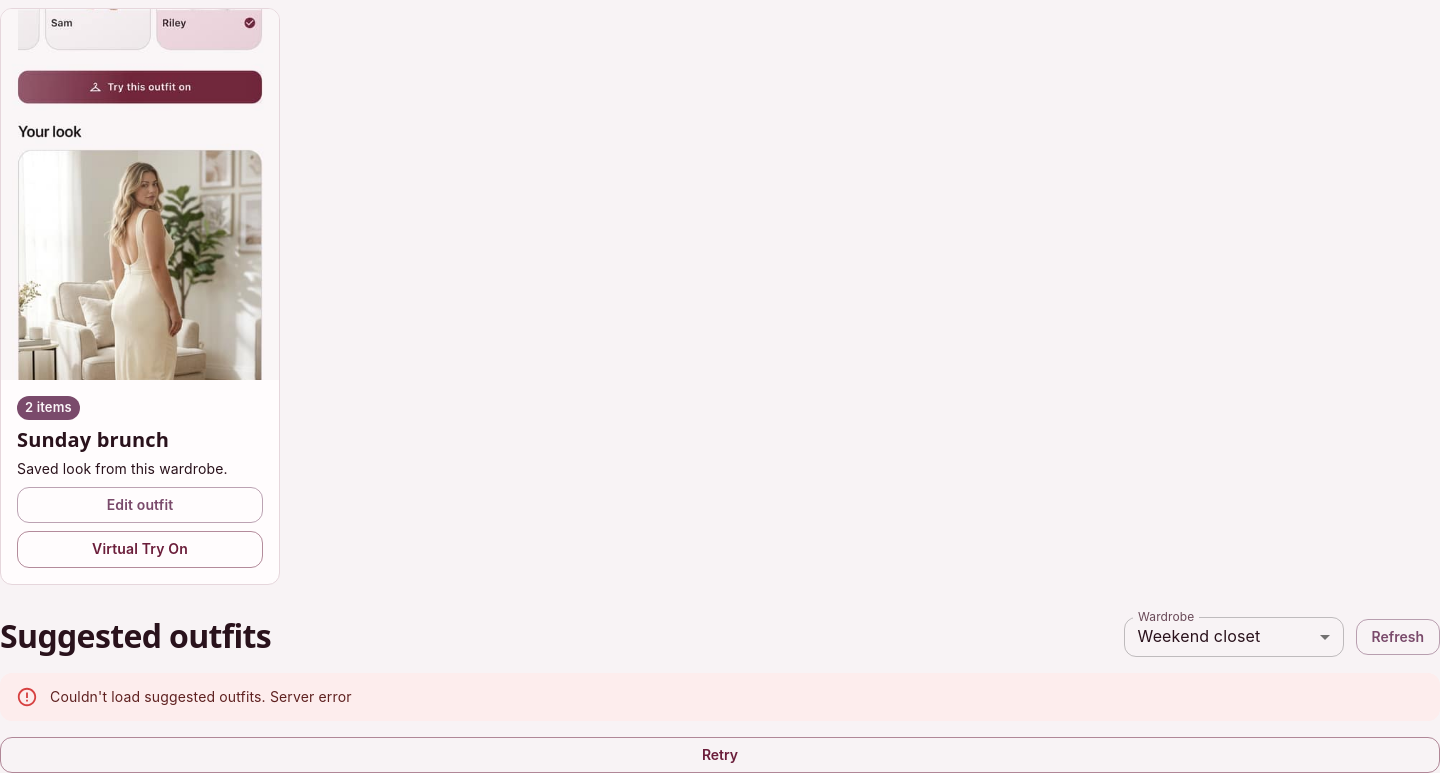
Test case: OutfitsPage › shows a load error with Retry and refetches suggestions
The width and height of the screenshot is (1440, 773).
(page scrolled)
Expected: the message reads "Couldn't load suggested outfits. Server error", [50,688,352,705]
Step 1. Click the button "Retry" → (720, 755), box [0,737,1439,772]
(page scrolled)
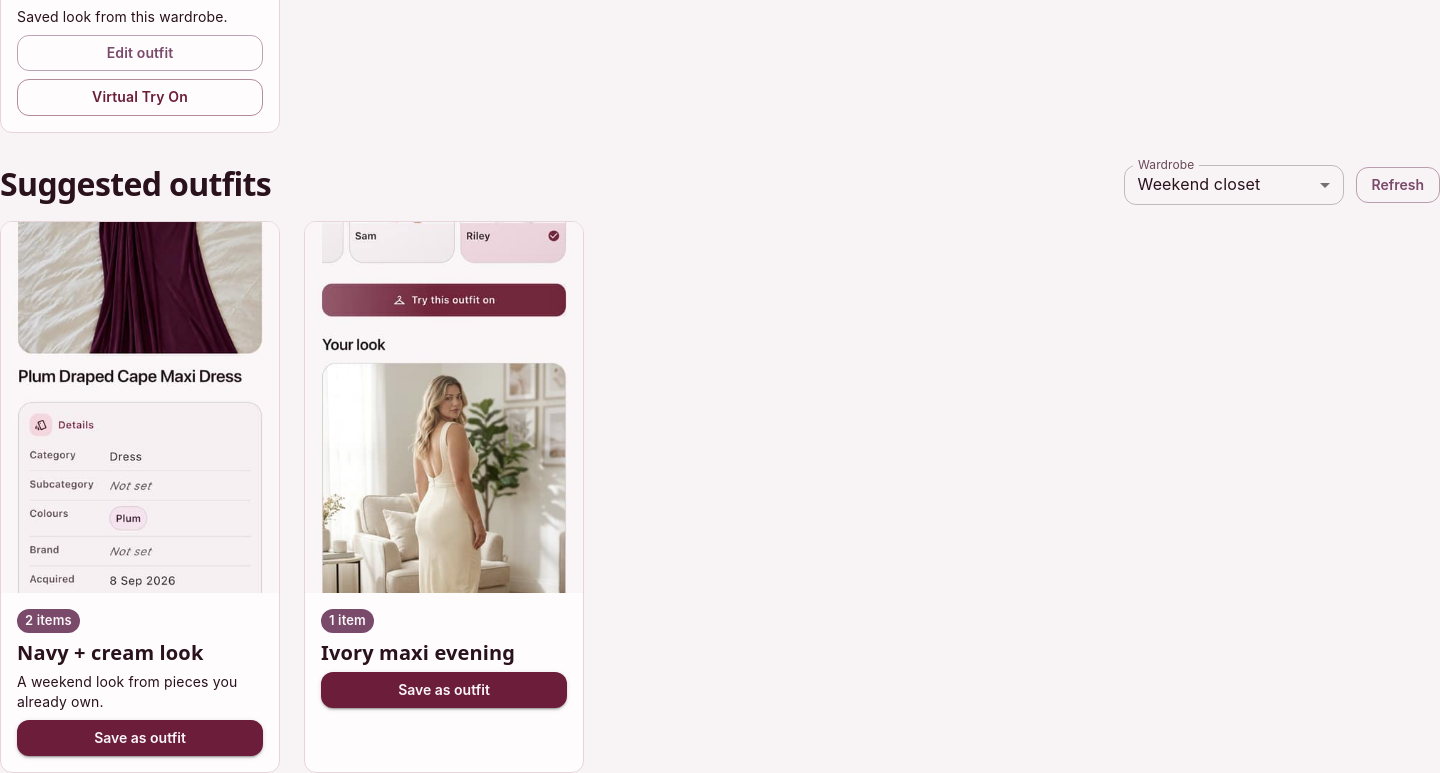
Now the heading "Navy + cream look" is shown, box [17,639,204,666]
